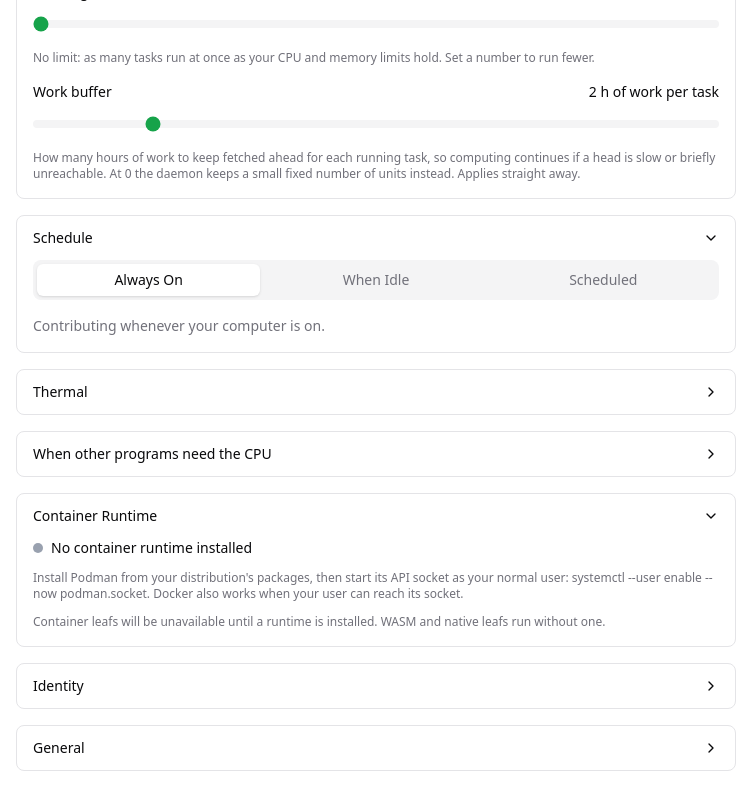
Test: SettingsPage › says the GPU thresholds have no effect where no GPU temperature can be read, and disables them
(page scrolled)
Click the button "Thermal": click(60, 392) [17,370,735,414]
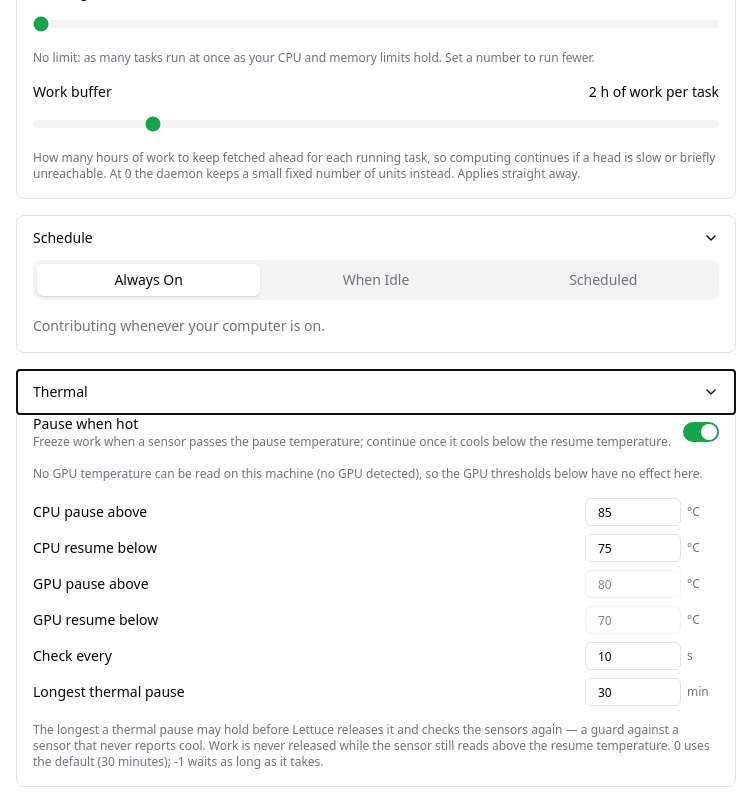
Expected: the text with test id "thermal-gpu-unreadable" shows "No GPU temperature can be read on this machine (no GPU detected)", [33,466,719,482]
Expected: the text with test id "thermal-gpu-unreadable" shows "GPU thresholds below have no effect here", [419,465,703,482]
Expected: the number field labelled "GPU pause above" is disabled, [585,570,681,598]
